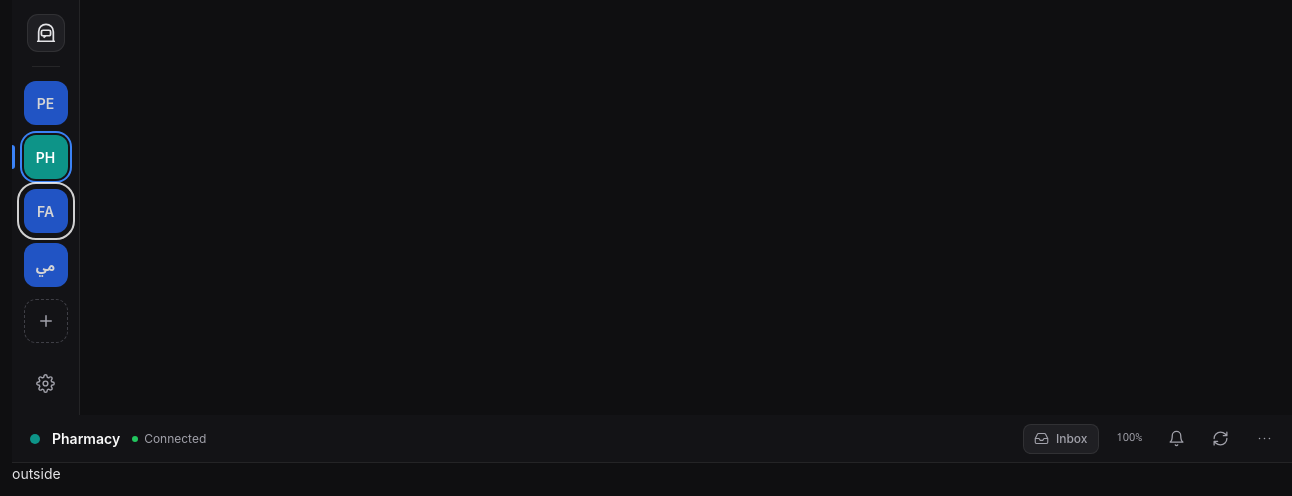
AccountMenu › Esc closes it and focus goes back to the tile
Right-click the button with aria-label "Family" at [46, 211], box [24, 189, 68, 233]
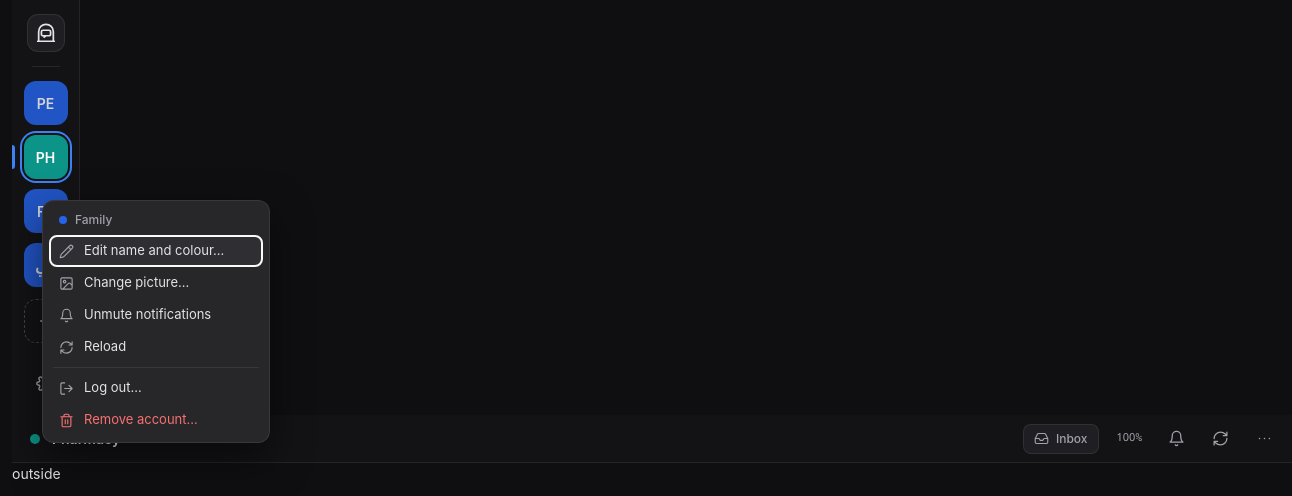
Press Escape
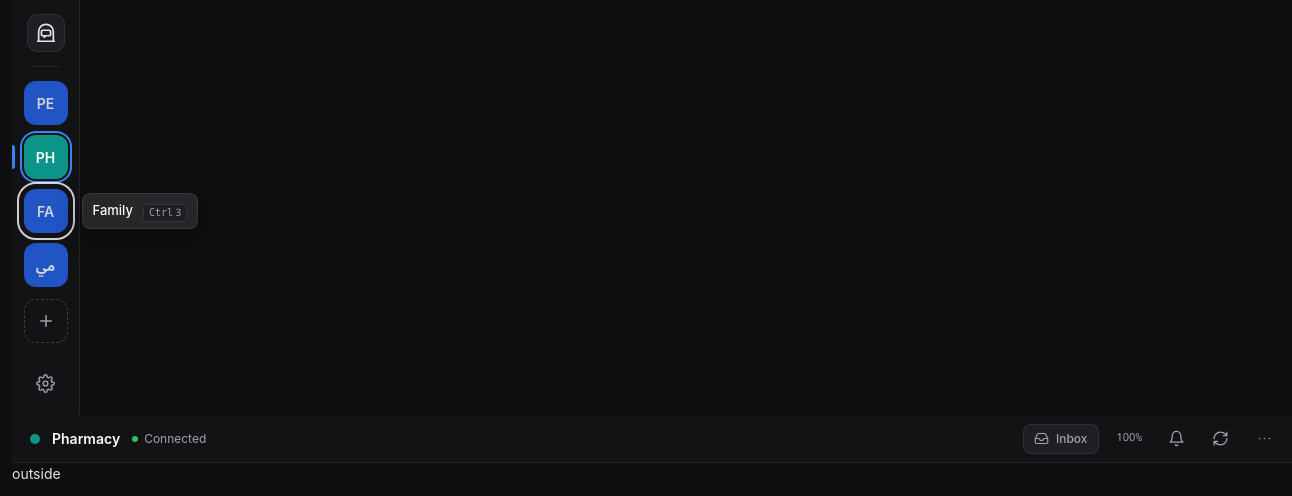
Expected: the menu is gone
